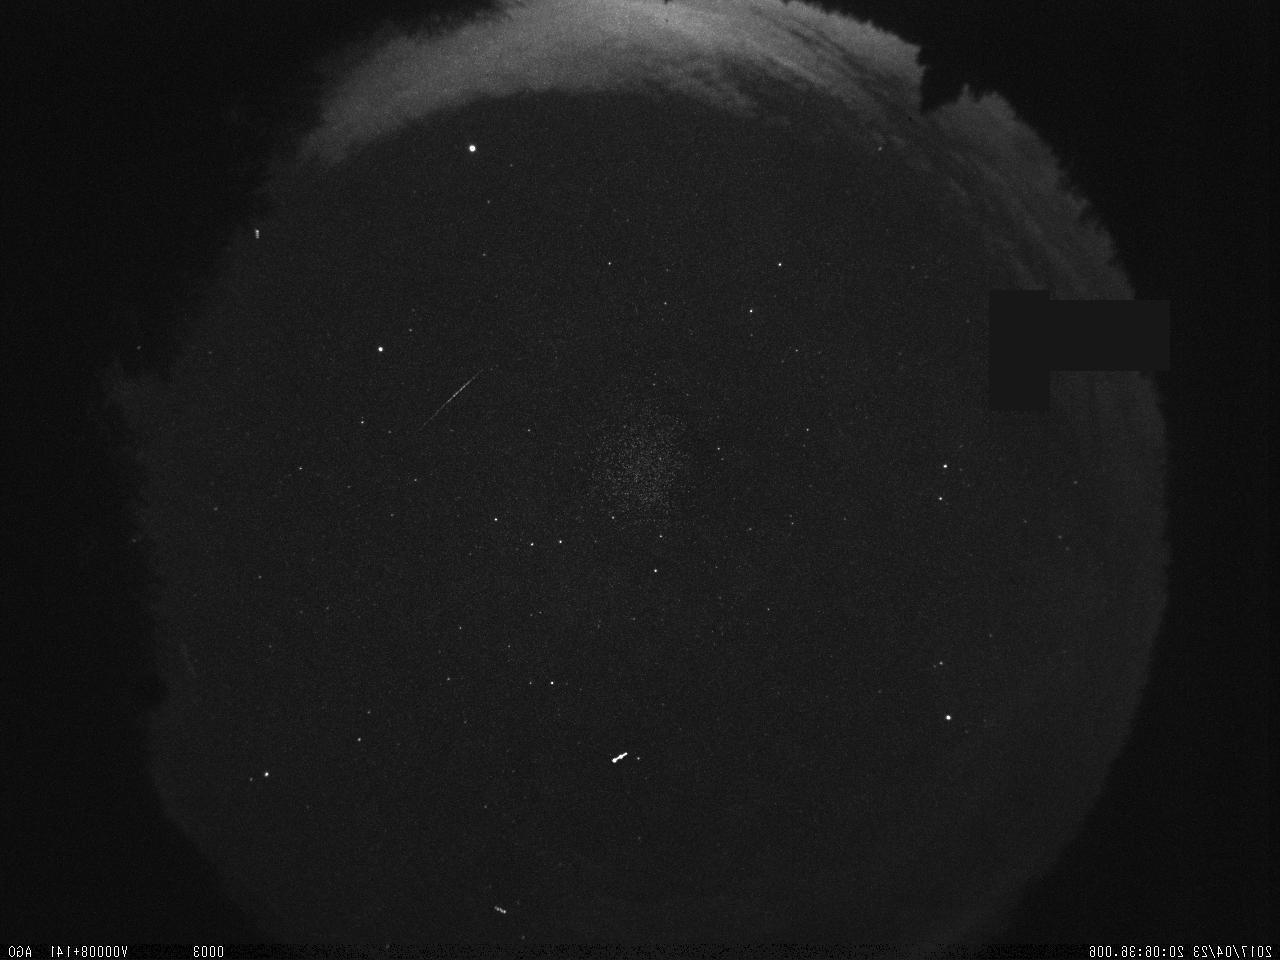meteor: (400, 358, 494, 452)
